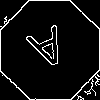A: (25, 25, 74, 80)
